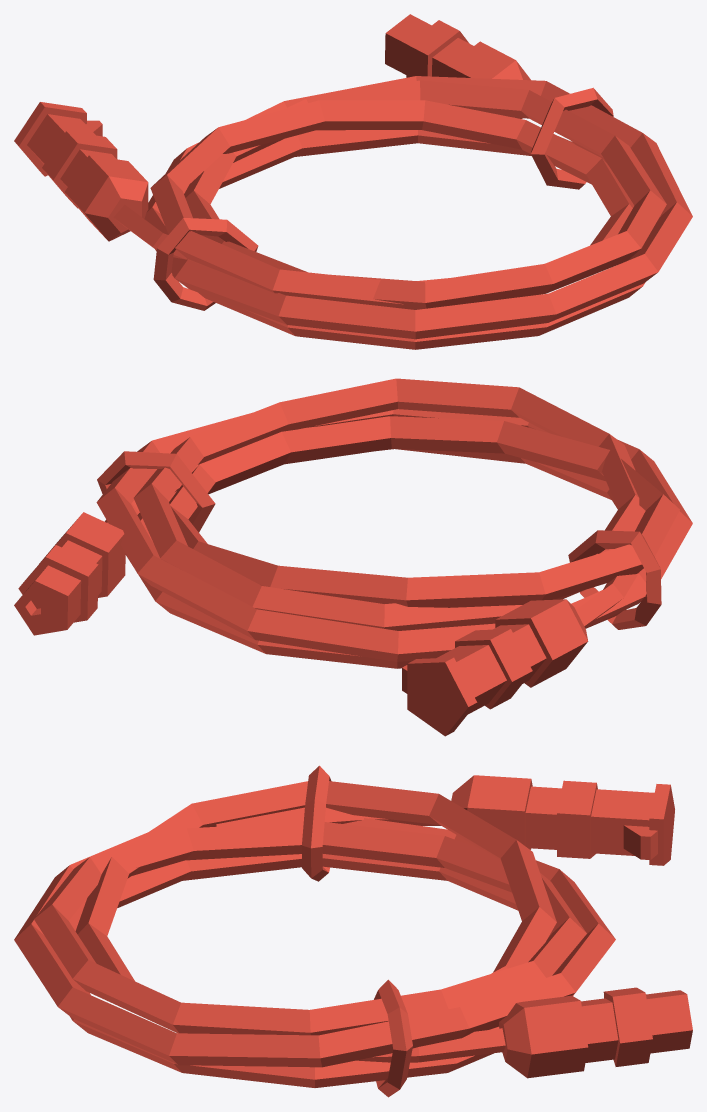
File: SM_Cable_Electric_Stranded_Big_C.fbx
The picture shows the model from 3 angles, top to bottom: view 1: azimuth 30°, elevation 25°; view 2: azimuth 150°, elevation 25°; view 3: azimuth 270°, elevation 25°; orthographic projection. The views are drawn at different scales.
Parts seen in each view (by area): view 1: SM_Cable_Electric_Stranded_Big_C; view 2: SM_Cable_Electric_Stranded_Big_C; view 3: SM_Cable_Electric_Stranded_Big_C.
Boxes of the visible parts, bbox=[...] form: SM_Cable_Electric_Stranded_Big_C: bbox=[14, 14, 692, 349]; SM_Cable_Electric_Stranded_Big_C: bbox=[14, 378, 692, 736]; SM_Cable_Electric_Stranded_Big_C: bbox=[14, 765, 692, 1097].
Size of the model in its own units: 38.84 by 35.47 by 6.77.
